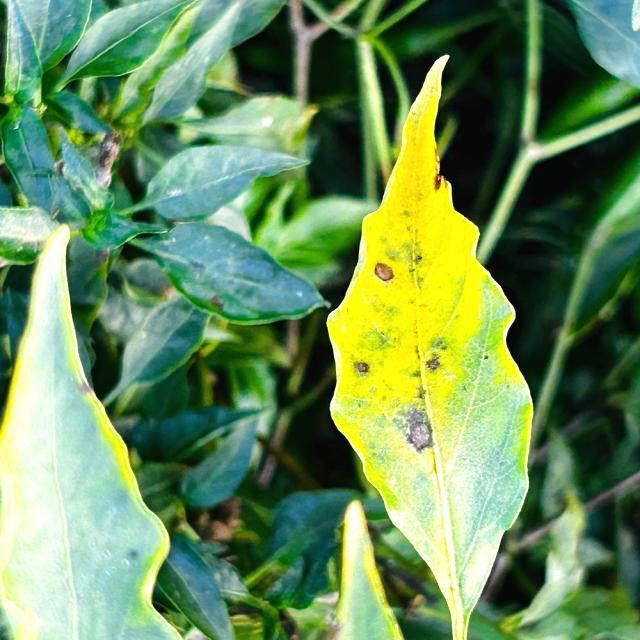Bercak Daun Serkospora: (326, 54, 536, 640)
